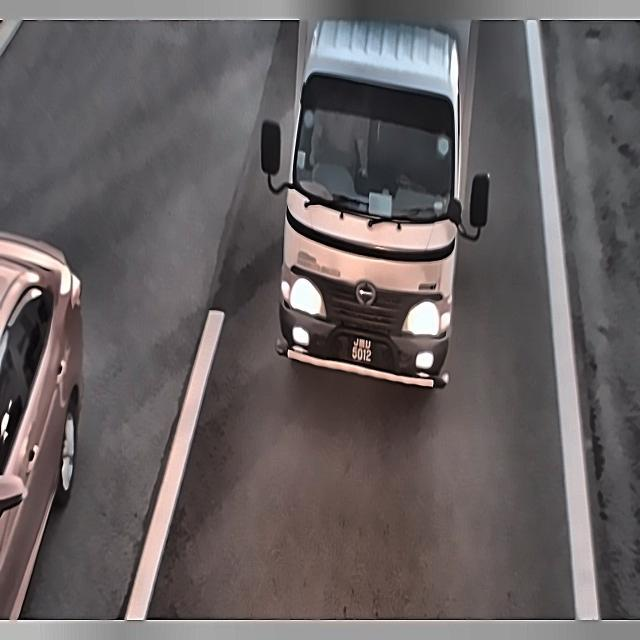car: (337, 329, 378, 369)
